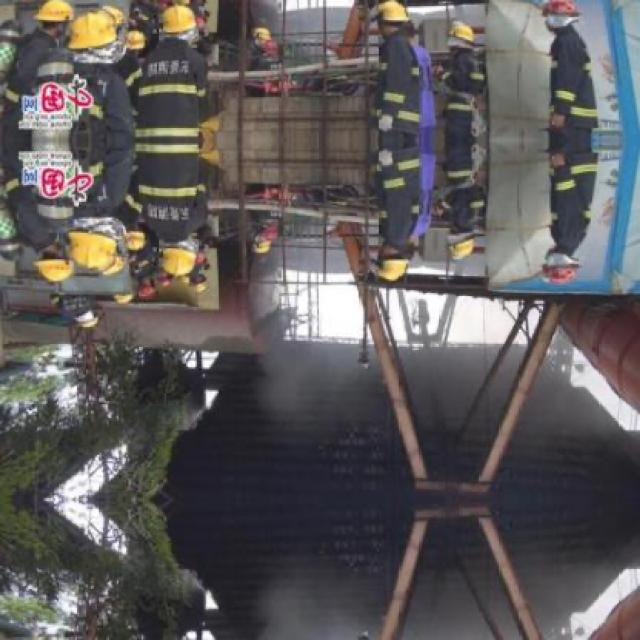con casco: (490, 220, 630, 310), (128, 194, 234, 296), (44, 194, 138, 297), (0, 241, 93, 296), (355, 222, 436, 285), (429, 218, 494, 275)
